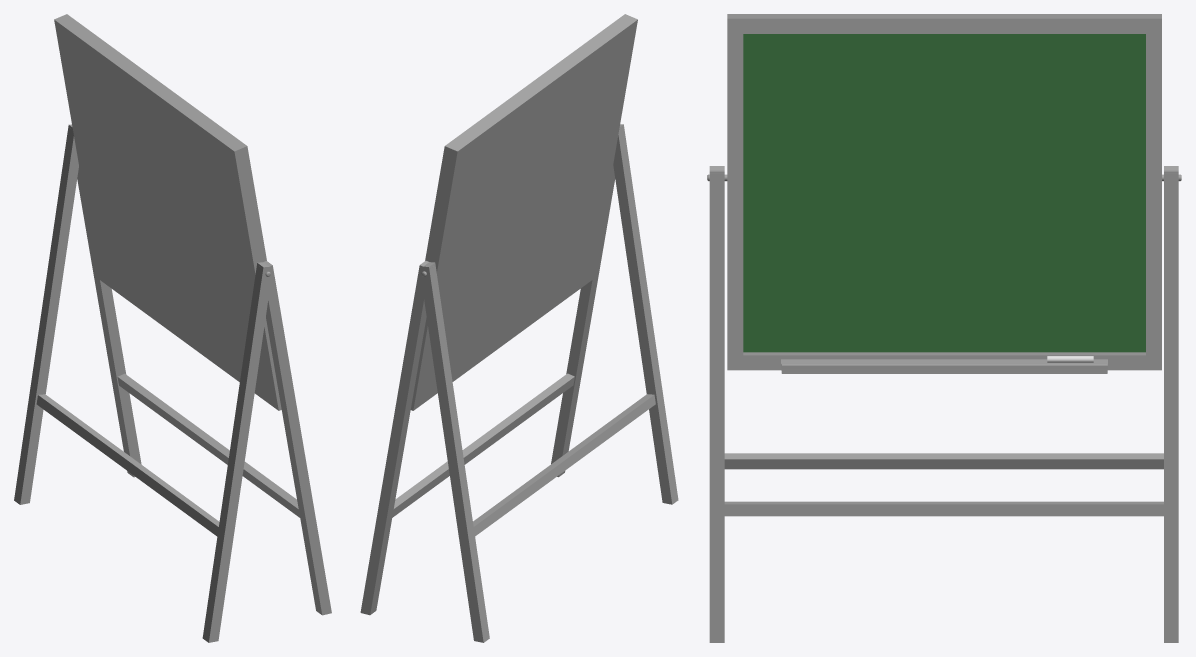
The model's file is ODis_ChalkBoard.fbx.
The picture shows the model from 3 angles, left to right: view 1: azimuth 30°, elevation 25°; view 2: azimuth 150°, elevation 25°; view 3: azimuth 270°, elevation 25°; orthographic projection. The views are drawn at different scales.
Visible parts, largest first — view 1: Chalk_Board:Board, Chalk_Board:Base3, Chalk_Board:Base4, Chalk_Board:Base, Chalk_Board:Base1, Chalk_Board:Base5, Chalk_Board:Base2; view 2: Chalk_Board:Board, Chalk_Board:Base4, Chalk_Board:Base3, Chalk_Board:Base1, Chalk_Board:Base, Chalk_Board:Base5, Chalk_Board:Base2; view 3: Chalk_Board:Board, Chalk_Board:Base, Chalk_Board:Base5, Chalk_Board:Base1, Chalk_Board:Base2.
Boxes of the visible parts, bbox=[...] form: Chalk_Board:Board: bbox=[54, 14, 281, 410]; Chalk_Board:Base3: bbox=[202, 262, 272, 642]; Chalk_Board:Base4: bbox=[14, 124, 78, 504]; Chalk_Board:Base: bbox=[263, 261, 331, 615]; Chalk_Board:Base1: bbox=[77, 166, 141, 477]; Chalk_Board:Base5: bbox=[36, 394, 219, 536]; Chalk_Board:Base2: bbox=[117, 373, 299, 517]; Chalk_Board:Board: bbox=[410, 14, 637, 410]; Chalk_Board:Base4: bbox=[419, 262, 489, 642]; Chalk_Board:Base3: bbox=[613, 124, 678, 504]; Chalk_Board:Base1: bbox=[360, 260, 429, 615]; Chalk_Board:Base: bbox=[551, 165, 615, 477]; Chalk_Board:Base5: bbox=[473, 394, 655, 536]; Chalk_Board:Base2: bbox=[392, 373, 574, 517]; Chalk_Board:Board: bbox=[727, 14, 1161, 373]; Chalk_Board:Base: bbox=[709, 170, 724, 642]; Chalk_Board:Base5: bbox=[724, 453, 1163, 469]; Chalk_Board:Base1: bbox=[1164, 170, 1178, 642]; Chalk_Board:Base2: bbox=[724, 501, 1163, 516].
Size of the model in its own units: 3.62 by 13.5 by 10.03.
